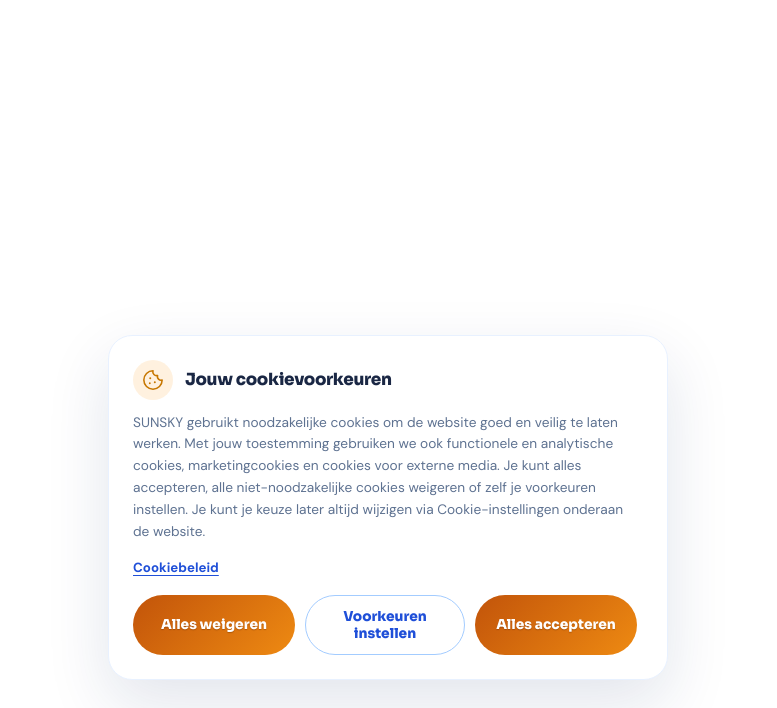
the settings screen › starts every optional category off
Step 1. Click the button "Voorkeuren instellen" → click(385, 625), box [305,595,465,655]
(page scrolled)
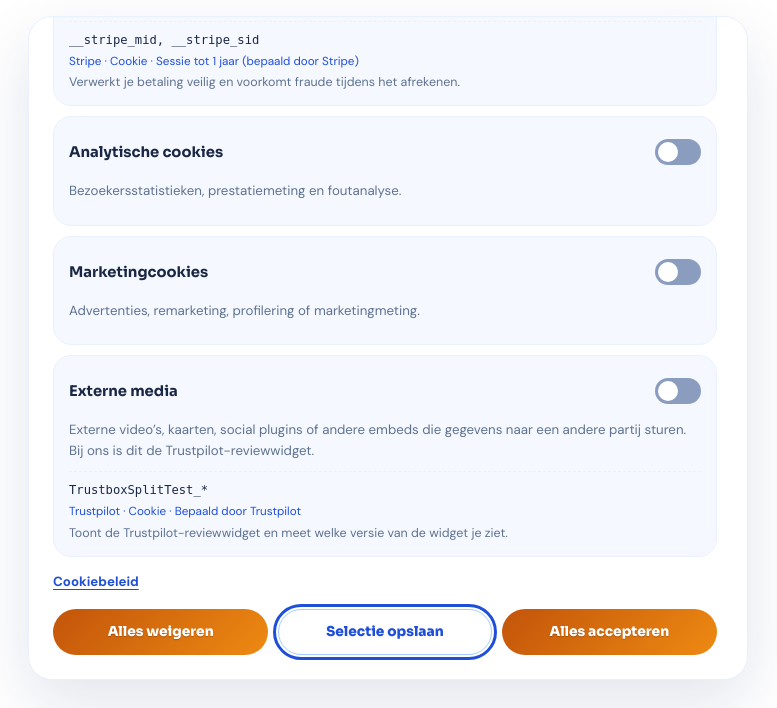
Expected: the checkbox in the row of "Analytische cookies" is not checked, [655,130,701,174]
Expected: the checkbox in the row of "Marketingcookies" is not checked, [655,250,701,294]
Expected: the checkbox in the row of "Externe media" is not checked, [655,369,701,413]
